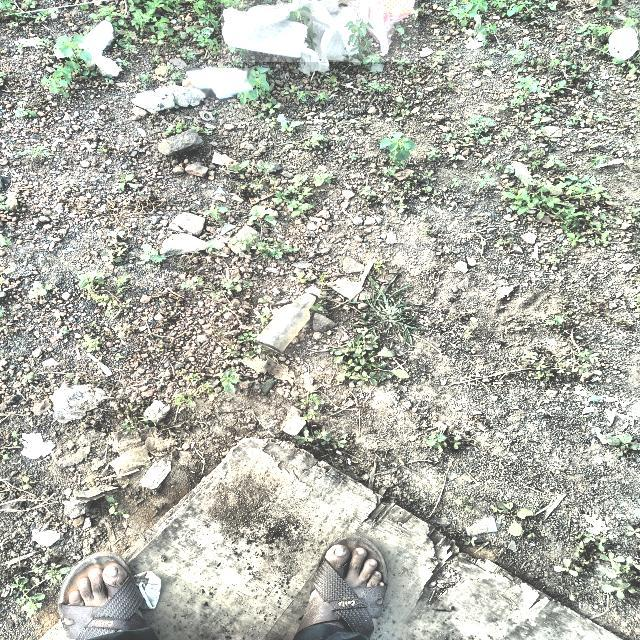anorganik: (221, 0, 418, 62), (254, 286, 325, 354), (187, 69, 253, 95), (608, 29, 636, 60)
